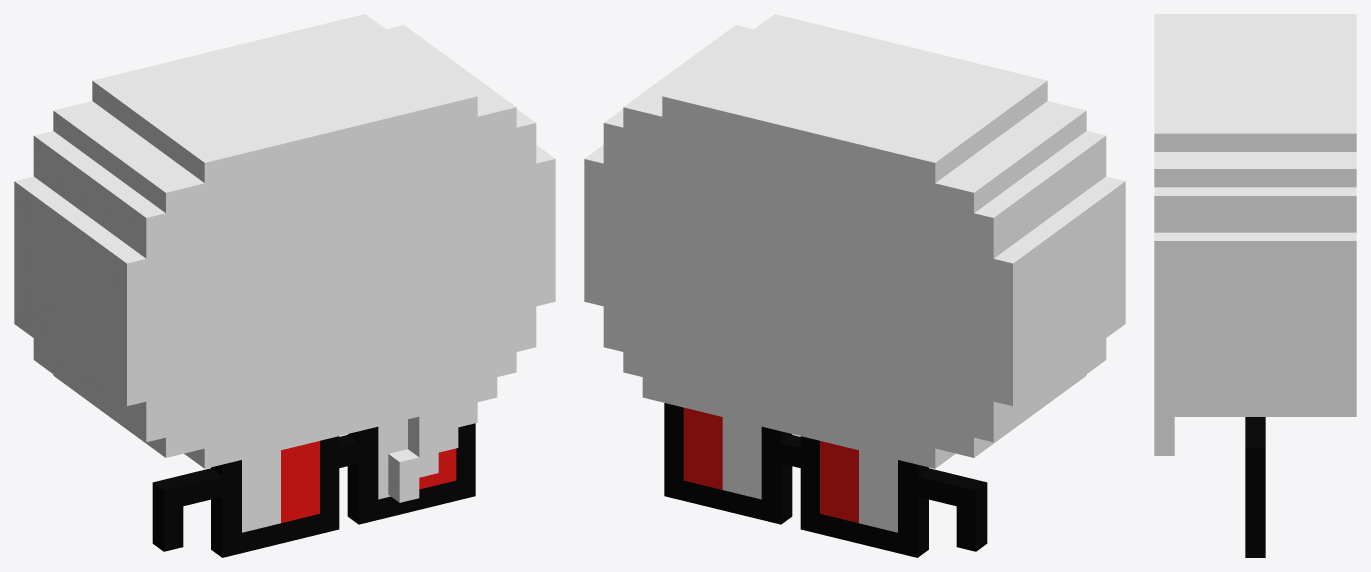
Rendered from speechbubble.glb.
3 renders of one model, left to right at view 1: azimuth 30°, elevation 25°; view 2: azimuth 150°, elevation 25°; view 3: azimuth 270°, elevation 25°, orthographic. The views are drawn at different scales.
Parts seen in each view (by area): view 1: base, glasses, layer-2; view 2: base, glasses, layer-2; view 3: base, glasses.
Part boxes in pixels (x1,y1,x2,y2): base: (14, 14, 555, 502); glasses: (152, 423, 475, 557); layer-2: (242, 419, 456, 532); base: (584, 14, 1125, 468); glasses: (664, 403, 987, 557); layer-2: (683, 407, 897, 532); base: (1154, 14, 1356, 455); glasses: (1245, 417, 1265, 557).
Bounding box in the file's own units: 22 × 22 × 10.
5 materials, 5 textured.
